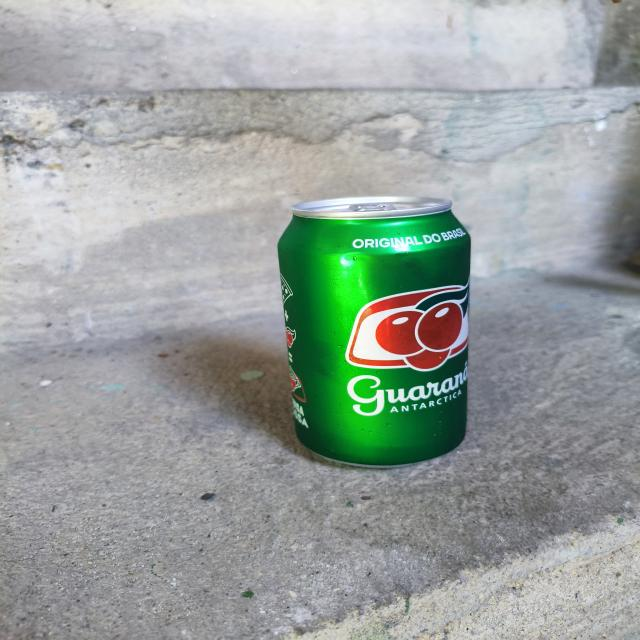Guarana: (277, 188, 486, 476)
